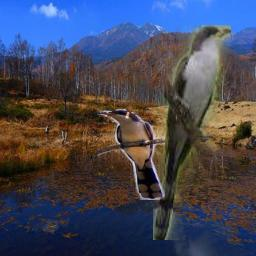Cuckoo: (153, 25, 231, 240), (97, 109, 165, 200)
